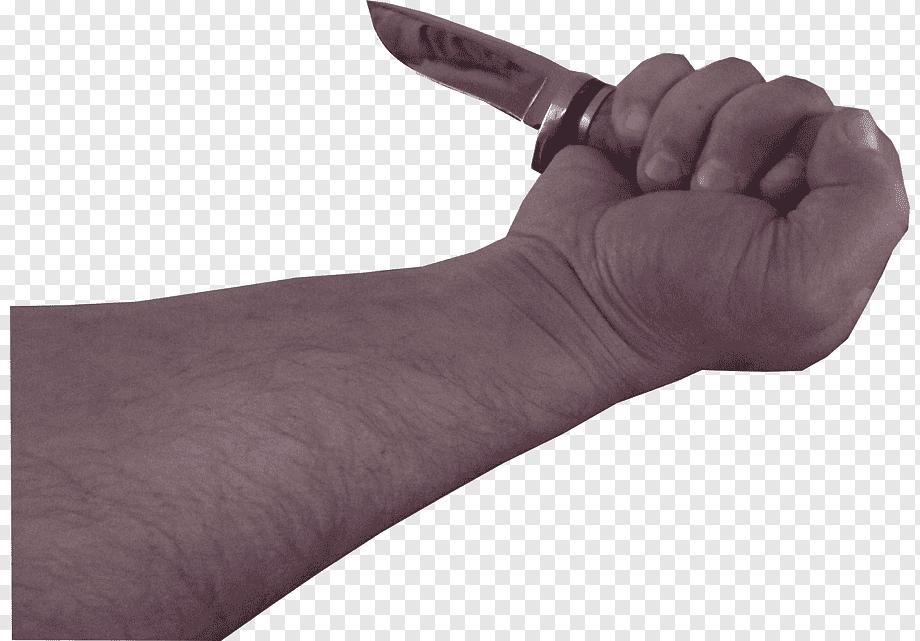Knife: (9, 52, 908, 641), (530, 52, 914, 375), (362, 0, 612, 151)
